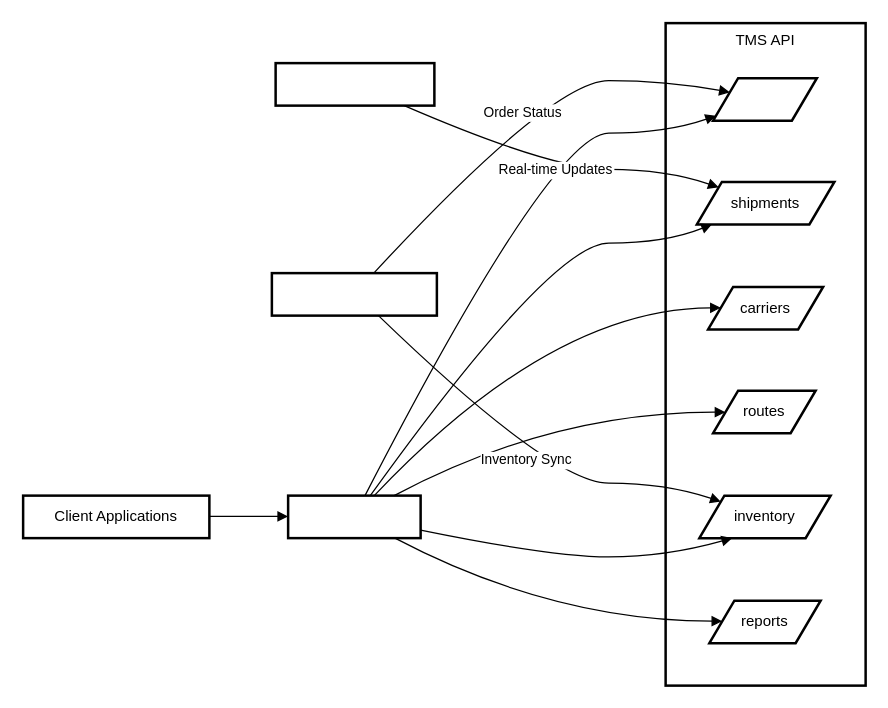
This 888x708 diagram has some shape labels left out. The shapes that lost their labels are listed below. From the top down, each one's centre as x and y in pixels, then its label:
the point at 354,83: Carrier Systems
the point at 764,98: orders
the point at 354,293: WMS Integration
the point at 353,516: API Gateway
